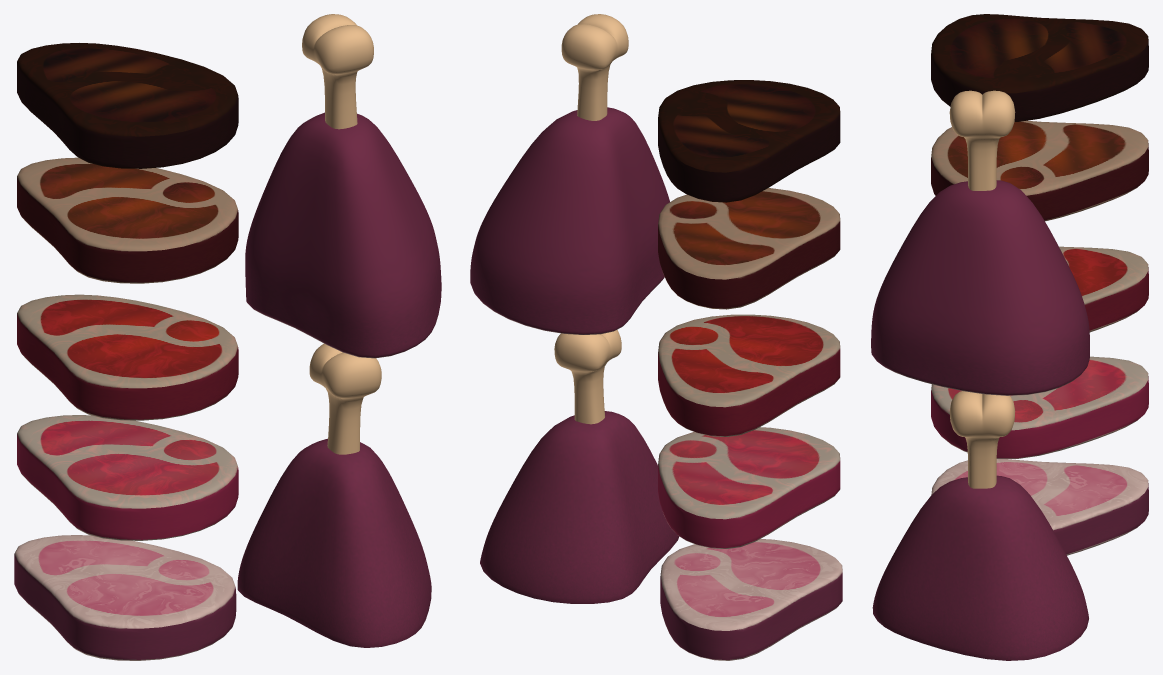
File: Full_Meat.fbx
3 views of the same model, side by side, from view 1: azimuth 30°, elevation 25°; view 2: azimuth 150°, elevation 25°; view 3: azimuth 270°, elevation 25° (orthographic). The views are drawn at different scales.
Visible parts, largest first — view 1: Cube.009, Cube.093, Cube.019, Cube.020, Cube.017, Cube.021, Cube.018; view 2: Cube.009, Cube.093, Cube.019, Cube.020, Cube.021, Cube.017, Cube.018; view 3: Cube.009, Cube.093, Cube.020, Cube.018, Cube.021, Cube.017, Cube.019.
Boxes of the visible parts, x1,y1,x2,y2 form: Cube.009: (245, 14, 441, 358); Cube.093: (237, 343, 431, 647); Cube.019: (17, 294, 238, 420); Cube.020: (17, 43, 238, 168); Cube.017: (14, 535, 236, 660); Cube.021: (17, 415, 238, 540); Cube.018: (17, 157, 238, 283); Cube.009: (470, 14, 669, 334); Cube.093: (480, 330, 679, 603); Cube.019: (658, 314, 840, 436); Cube.020: (658, 80, 840, 202); Cube.021: (658, 427, 840, 548); Cube.017: (660, 539, 842, 660); Cube.018: (658, 188, 840, 309); Cube.009: (871, 90, 1089, 395); Cube.093: (872, 391, 1088, 660); Cube.020: (931, 14, 1148, 121); Cube.018: (931, 120, 1148, 221); Cube.021: (931, 356, 1148, 458); Cube.017: (931, 459, 1148, 555); Cube.019: (1059, 246, 1148, 332).
Bounding box in the file's own units: 107 × 160 × 76.38.
Materials: 1 (1 with a texture image).
